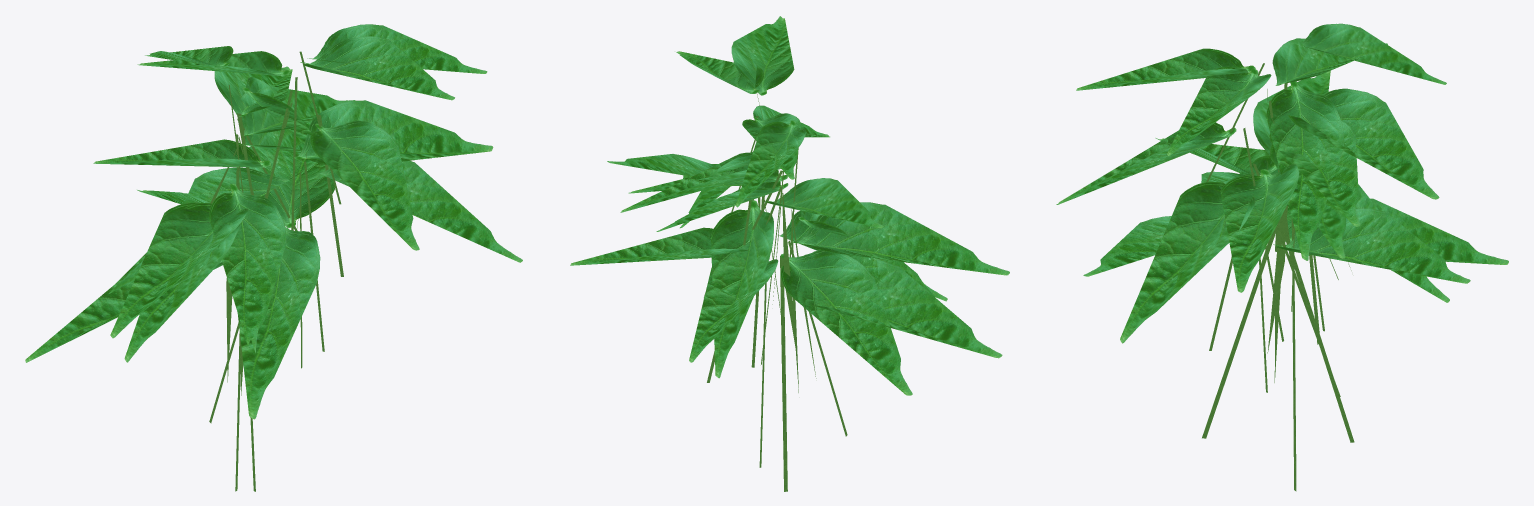
File: Leafy Clump A.glb
The picture shows the model from 3 angles, left to right: view 1: azimuth 30°, elevation 25°; view 2: azimuth 150°, elevation 25°; view 3: azimuth 270°, elevation 25°; orthographic projection. The views are drawn at different scales.
Visible parts, largest first — view 1: Leafy Clump A; view 2: Leafy Clump A; view 3: Leafy Clump A.
Part boxes in pixels (bbox=[...]): Leafy Clump A: bbox=[25, 24, 522, 491]; Leafy Clump A: bbox=[570, 16, 1009, 491]; Leafy Clump A: bbox=[1056, 23, 1508, 491].
Bounding box in the file's own units: 0.5426 × 0.5 × 0.4475.
1 material, 1 textured.
